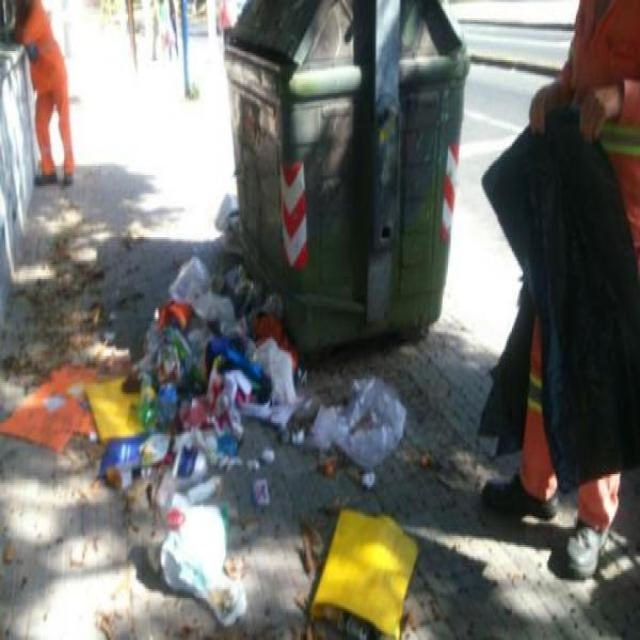garbage: (0, 251, 423, 640), (212, 182, 246, 232)
